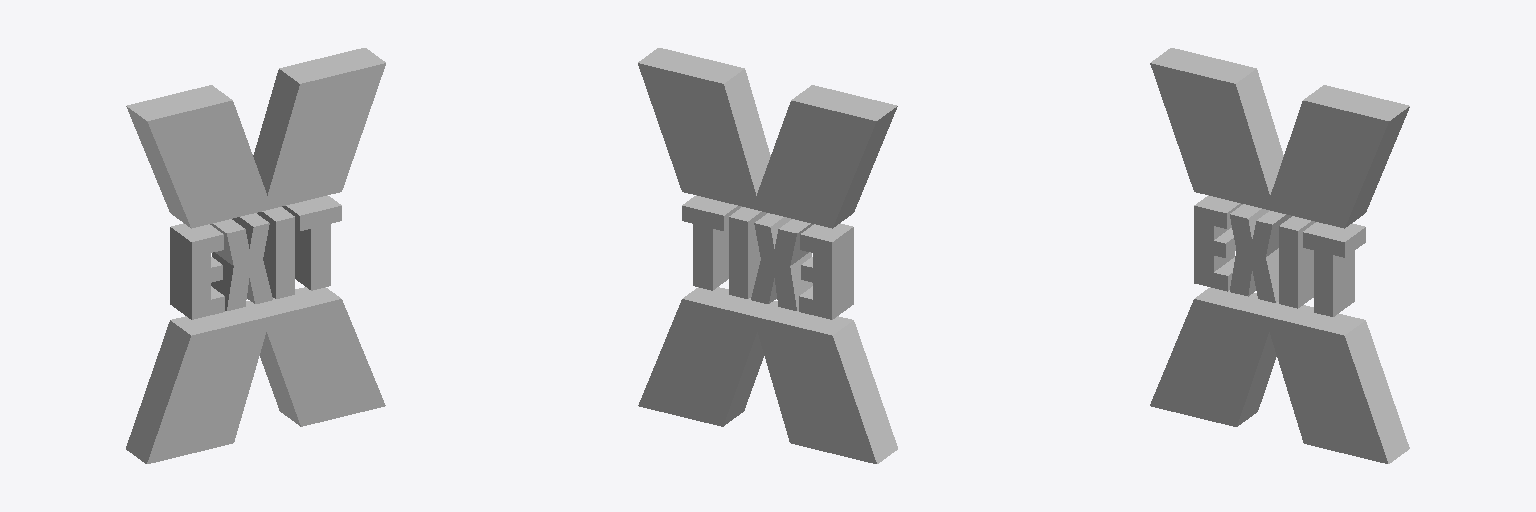
File: exit.obj
The picture shows the model from 3 angles: view 1: azimuth 30°, elevation 25°; view 2: azimuth 150°, elevation 25°; view 3: azimuth 330°, elevation 25°; orthographic projection.
Parts seen in each view (by area): view 1: Text_CUText; view 2: Text_CUText; view 3: Text_CUText.
Part boxes in pixels (left/top/right/bottom): Text_CUText: left=126, top=48, right=385, bottom=463; Text_CUText: left=638, top=48, right=897, bottom=463; Text_CUText: left=1150, top=48, right=1409, bottom=463.
Size of the model in its own units: 13.01 by 17.79 by 2.